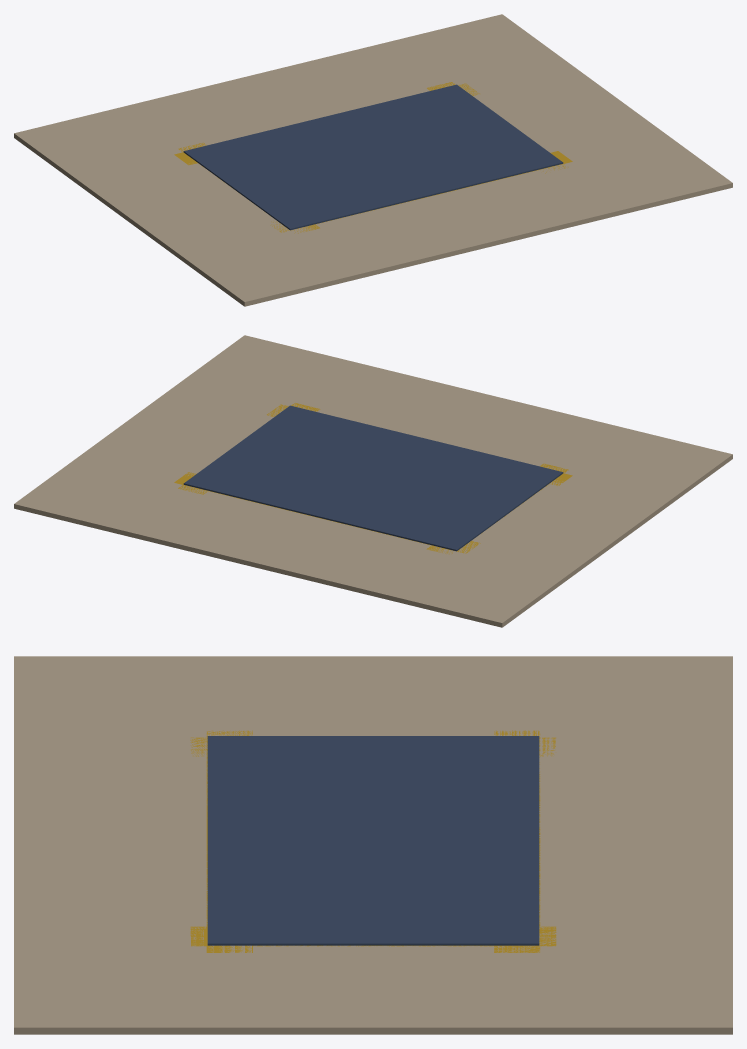
Rendered from stage_04_columns.glb.
3 renders of one model, top to bottom at view 1: azimuth 30°, elevation 25°; view 2: azimuth 150°, elevation 25°; view 3: azimuth 270°, elevation 25°, orthographic. The views are drawn at different scales.
Visible parts, largest first — view 1: world; view 2: world; view 3: world.
Part boxes in pixels (bbox=[...]): world: bbox=[14, 14, 732, 306]; world: bbox=[14, 335, 732, 627]; world: bbox=[14, 656, 732, 1034].
Bounding box in the file's own units: 11 × 0.83 × 9.
